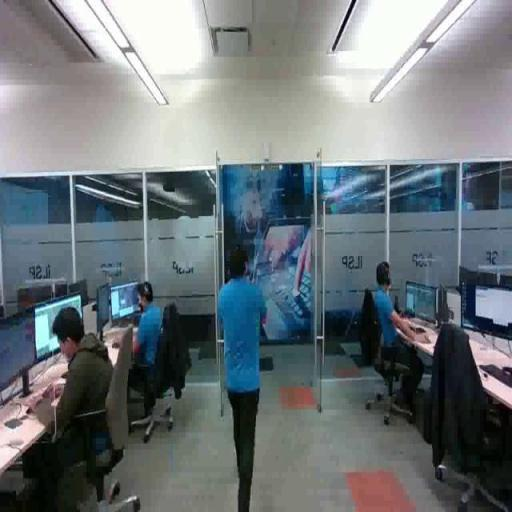person: (216, 252, 271, 512)
